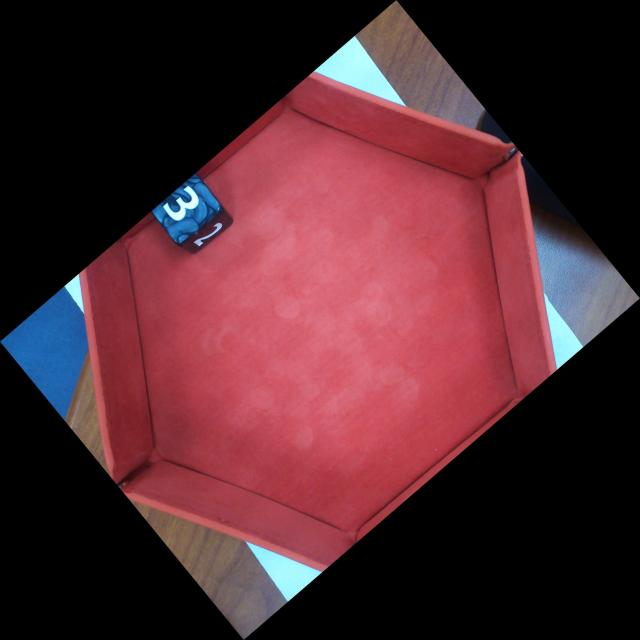dice: (150, 169, 225, 247)
